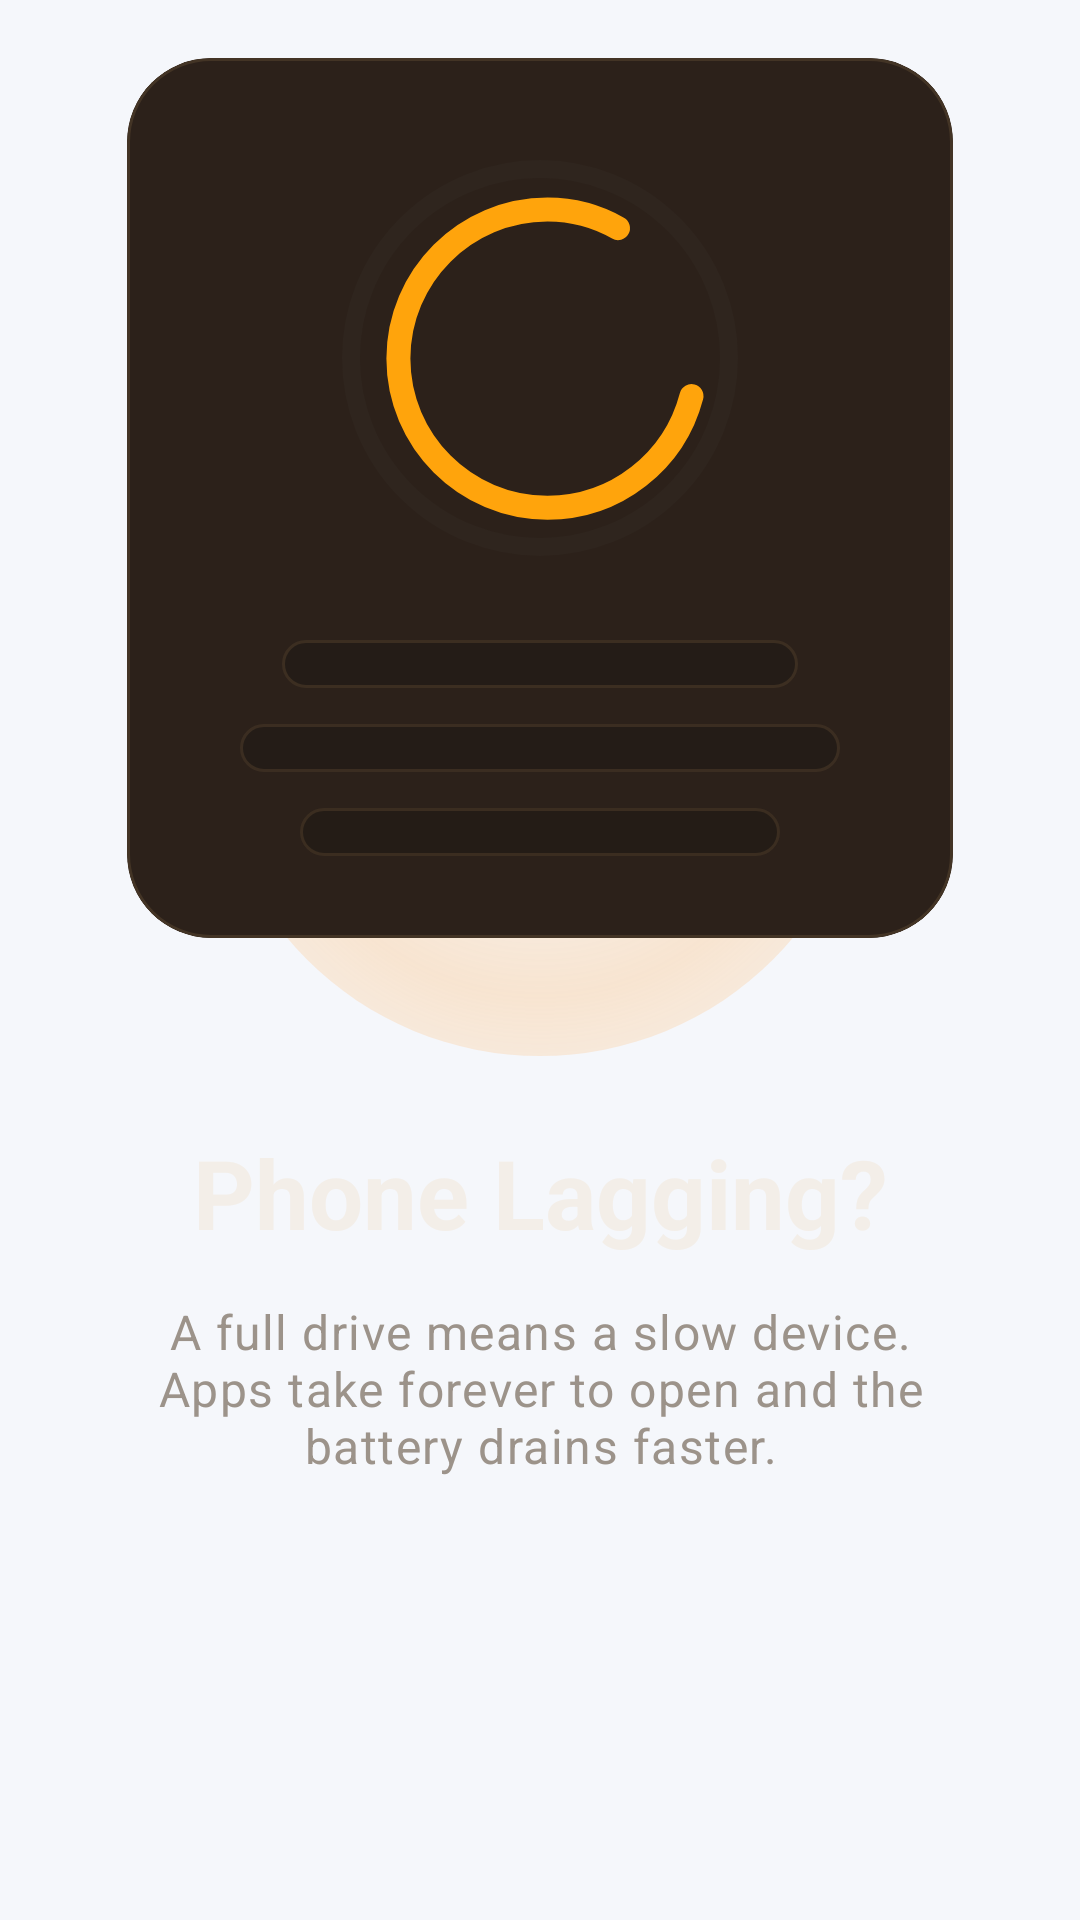

Locate icon controls on the screen. Image size 1080w x 1920h, boxes as (x1, y1, x2, y2).
lag progress arc: (386, 197, 704, 520)
